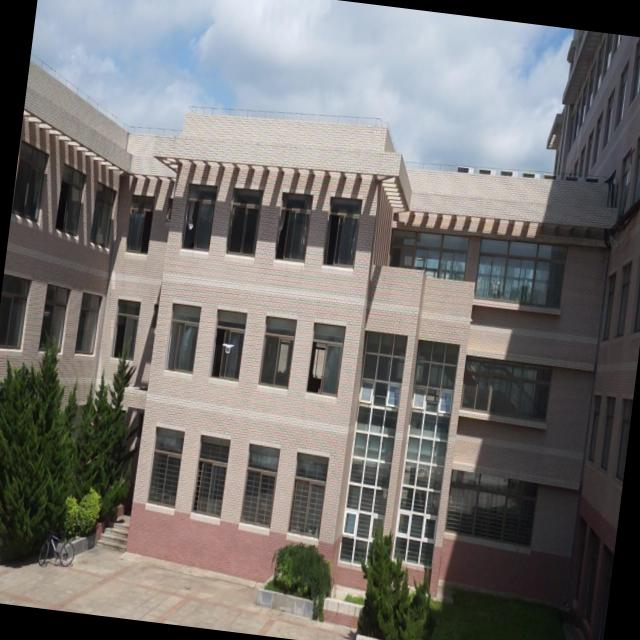drone: (220, 336, 237, 356)
